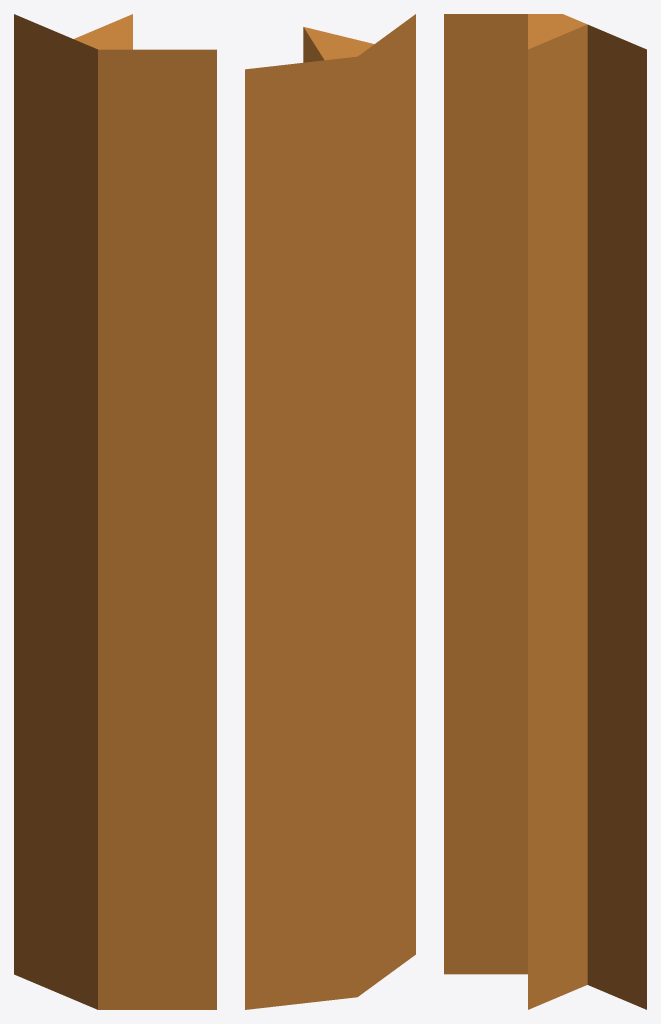
3 views of the same model, side by side, from view 1: azimuth 90°, elevation 25°; view 2: azimuth 150°, elevation 25°; view 3: azimuth 270°, elevation 25° (orthographic). The views are drawn at different scales.
Parts seen in each view (by area): view 1: CORNER-A-13-p2; view 2: CORNER-A-13-p2; view 3: CORNER-A-13-p2.
Boxes of the visible parts, x1=… form: CORNER-A-13-p2: x1=14, y1=14, x2=216, y2=1009; CORNER-A-13-p2: x1=245, y1=14, x2=415, y2=1009; CORNER-A-13-p2: x1=444, y1=14, x2=646, y2=1009.
Size of the model in its own units: 0.09 by 1.13 by 0.2174.
